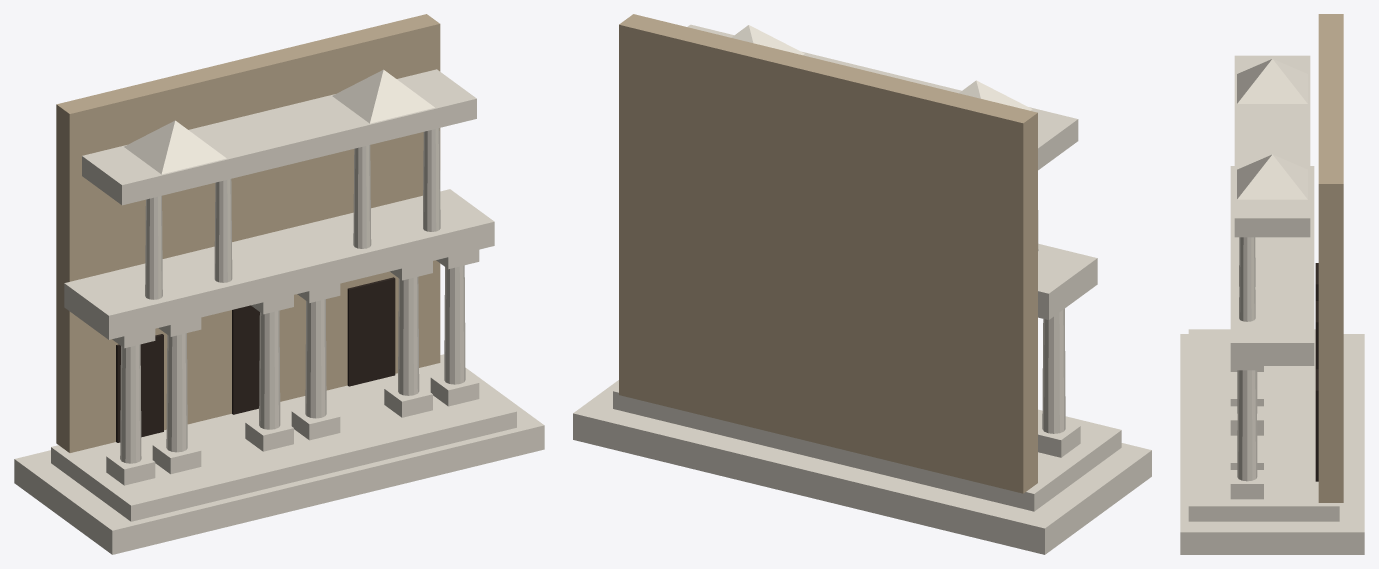
The model's file is efes.glb.
3 views of the same model, side by side, from view 1: azimuth 30°, elevation 25°; view 2: azimuth 150°, elevation 25°; view 3: azimuth 270°, elevation 25° (orthographic). The views are drawn at different scales.
Bounding box in the file's own units: 0.56 × 0.47 × 0.22.
